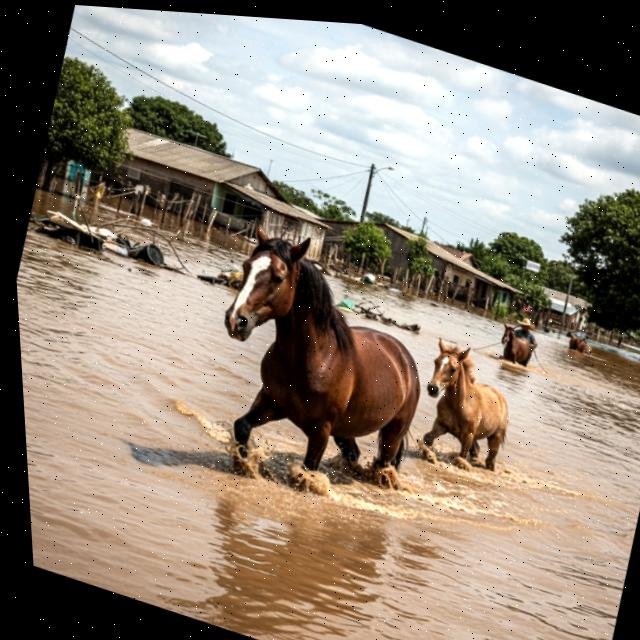civilian: (505, 309, 541, 344)
horse: (166, 206, 466, 528), (397, 329, 538, 491), (487, 323, 544, 372)
